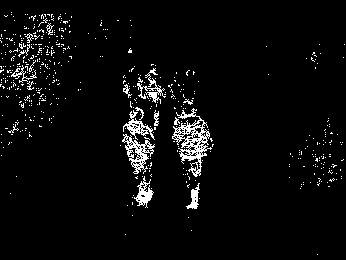person: (173, 104, 213, 214), (123, 107, 159, 210), (142, 60, 166, 131)
